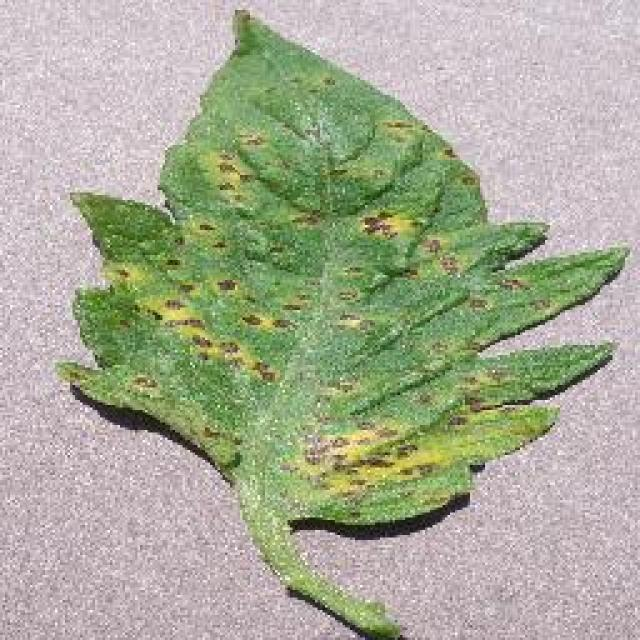Tomato___Septoria_leaf_spot: (58, 10, 625, 638)
